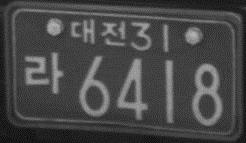1: (158, 59, 184, 123), (157, 23, 177, 51)
3: (130, 21, 151, 51)
4: (115, 57, 149, 120)
6: (77, 55, 110, 117)
8: (191, 62, 223, 126)
대전_O: (70, 18, 127, 47)
라: (22, 51, 64, 94)
